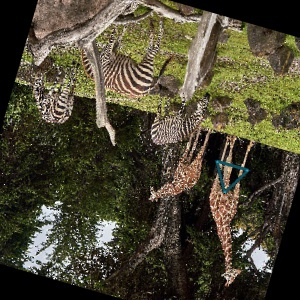triangle: (213, 157, 251, 197)
